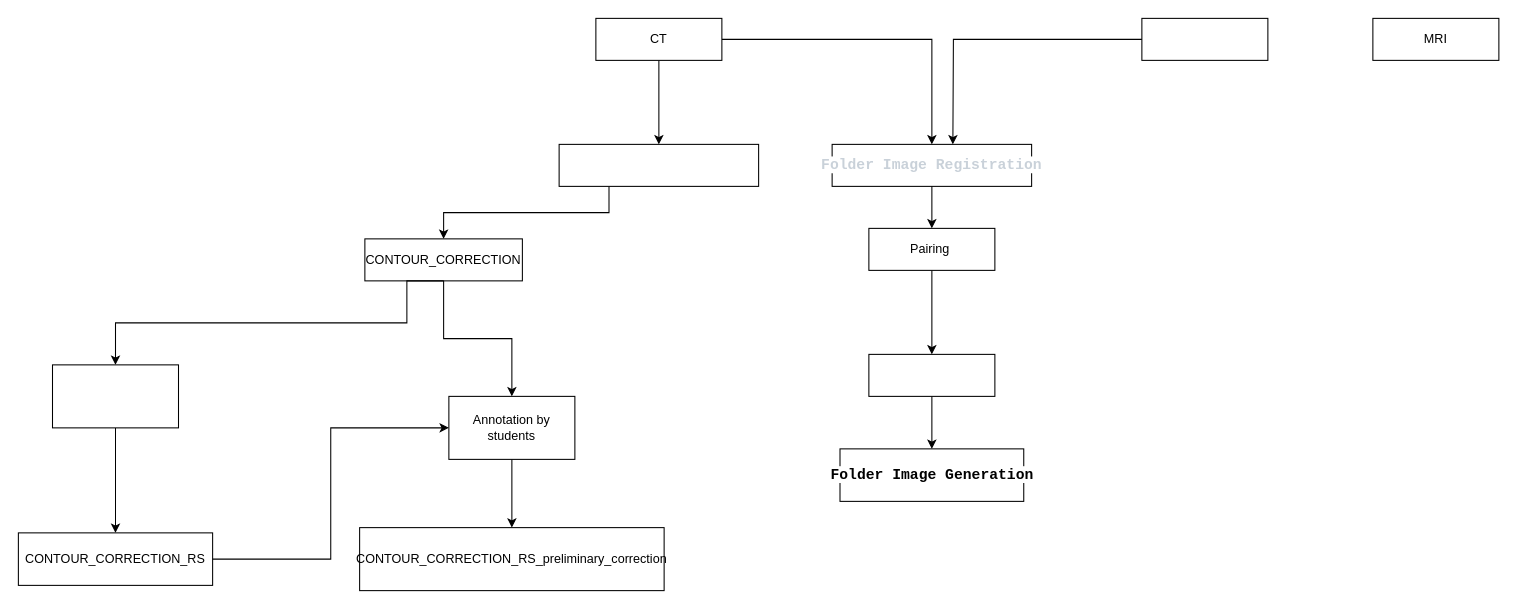
Image size: 1517x609. Some labels were removed from this diagram. The centre of each missing label's shape, as x and y in pixels:
CBCT: the point at 1204,38
Conversion to nii: the point at 931,374
Folder Segmentation: the point at 658,164
Pre-annotated by AI model: the point at 114,396
